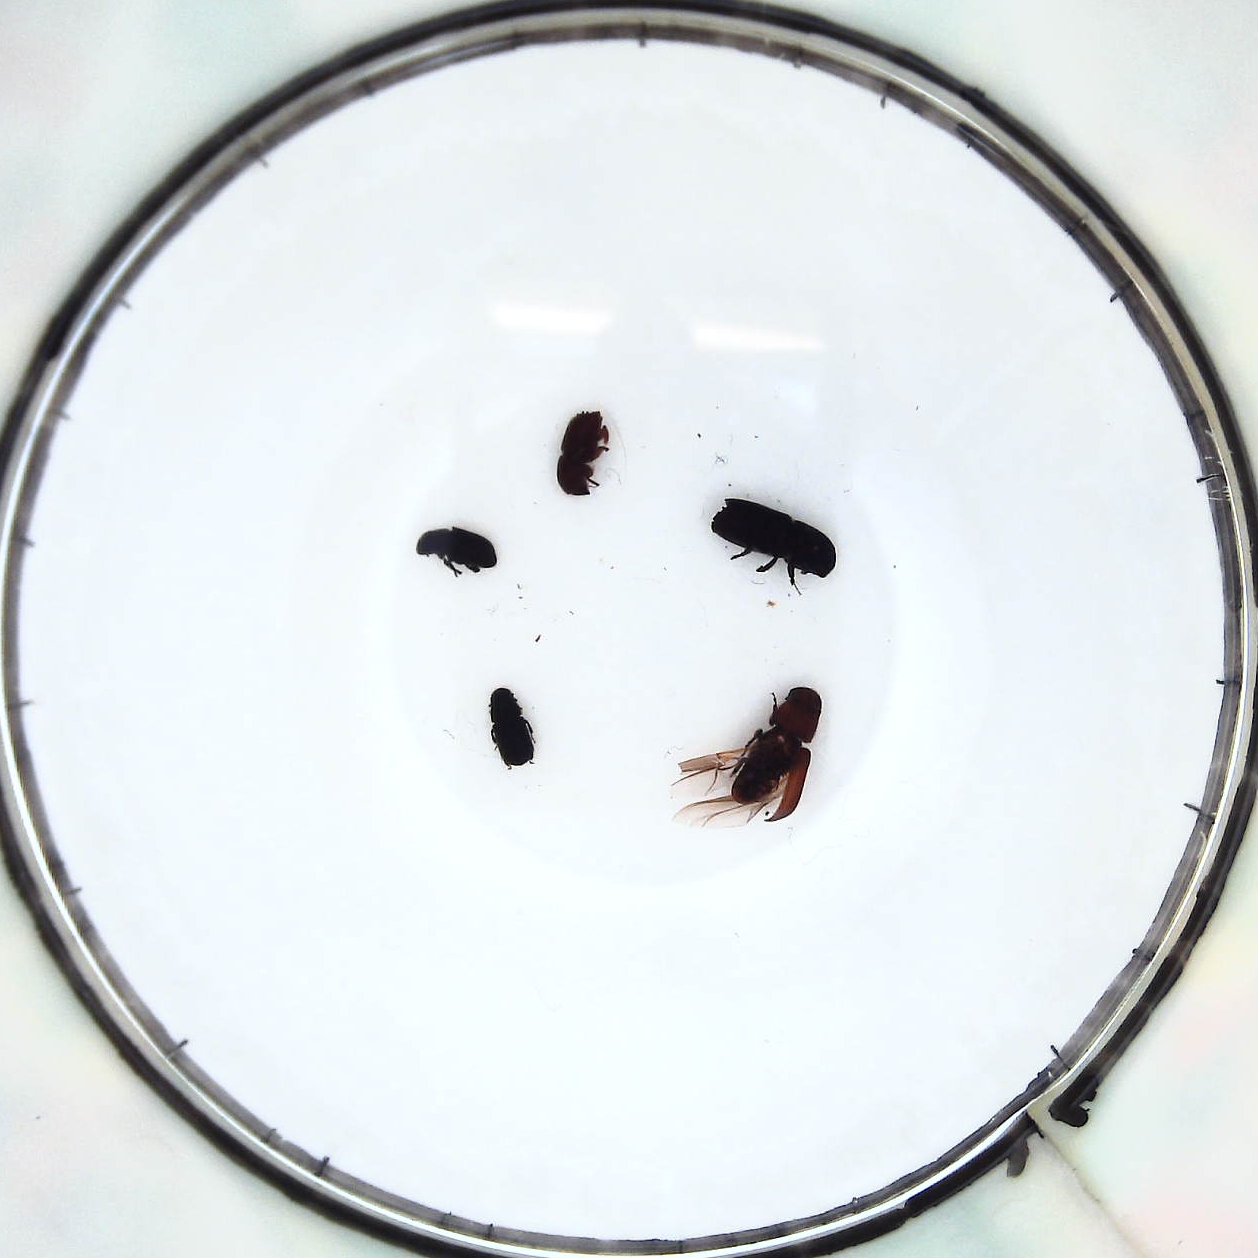Boerner: (713, 499, 833, 584)
Leconte: (684, 692, 823, 823)
Linnaeus: (555, 407, 609, 497)
armandi: (486, 689, 543, 768), (416, 524, 499, 573)
